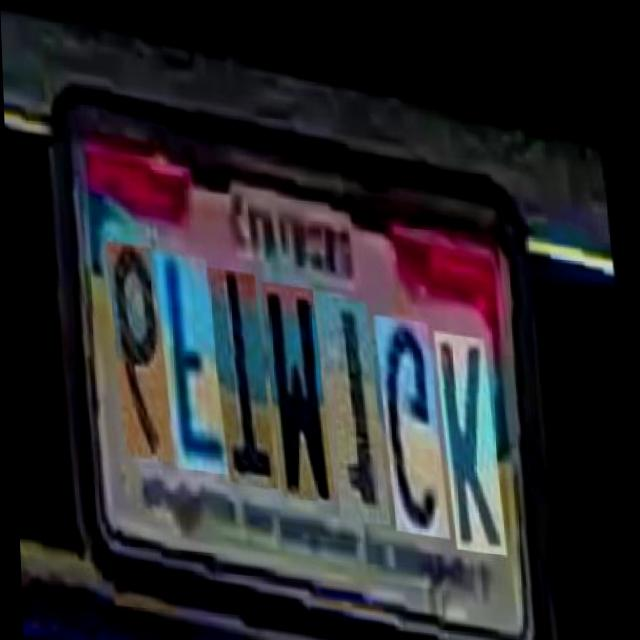1: (321, 284, 390, 513)
6: (109, 237, 174, 458)
f: (157, 247, 228, 469)
g: (378, 303, 450, 526)
k: (437, 317, 506, 541)
m: (264, 273, 335, 495)
t: (211, 259, 278, 480)
